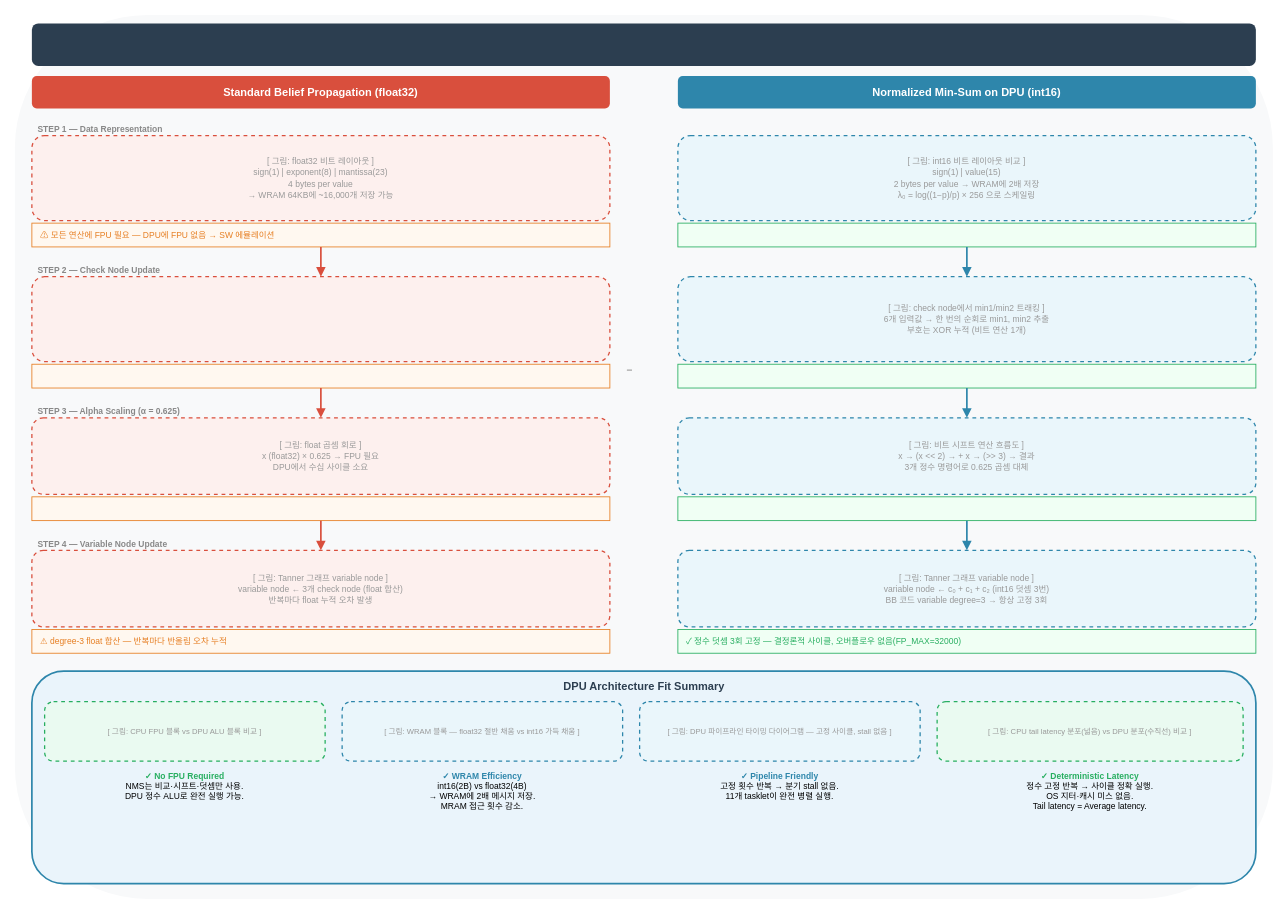
The diagram is 1287 pixels wide and 913 high, and some of its shapes have lost their labels. Here are the shapes that lost their labels. From the top down, the box of each, then its label:
(31, 23, 1255, 65): Why Normalized Min-Sum BP Fits UPMEM DPU Architecture
(677, 222, 1256, 247): ✓ 정수 연산만 사용 — DPU ALU가 기본 지원, FPU 불필요
(31, 276, 610, 362): [ 그림: tanh 함수 곡선 그래프 ] 입력 x → tanh(x/2) → 곱 → atanh → 출력 비선형 초월함수, 하드웨어 구현 불가
(31, 363, 610, 388): ⚠ tanh/atanh 초월함수 — HW 미지원, 곱셈 오차 누적
(677, 363, 1256, 388): ✓ 정수 비교 + 부호 XOR만 사용 — 단일 사이클, 파이프라인 친화적
(31, 496, 610, 521): ⚠ 메시지 엣지마다 float 곱셈 — FPU 없는 DPU에서 극히 느림
(677, 496, 1256, 521): ✓ shift + add 3개 명령어 — FPU 불필요, 완전 파이프라인 실행
